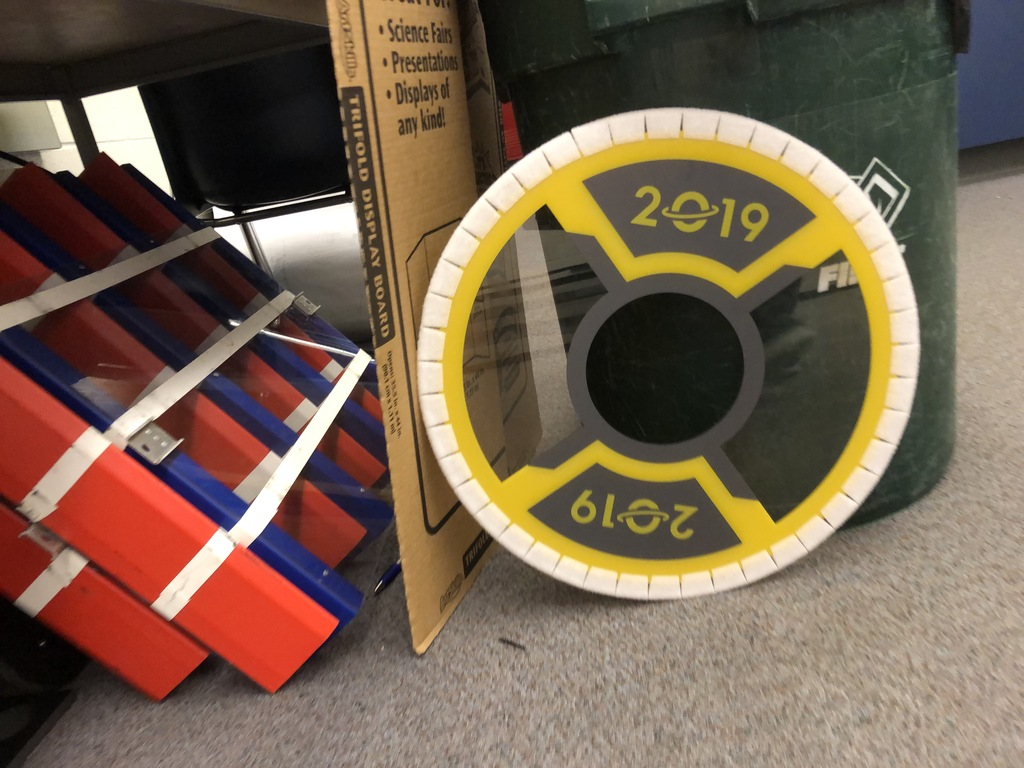hatch_panel: (416, 101, 932, 613)
